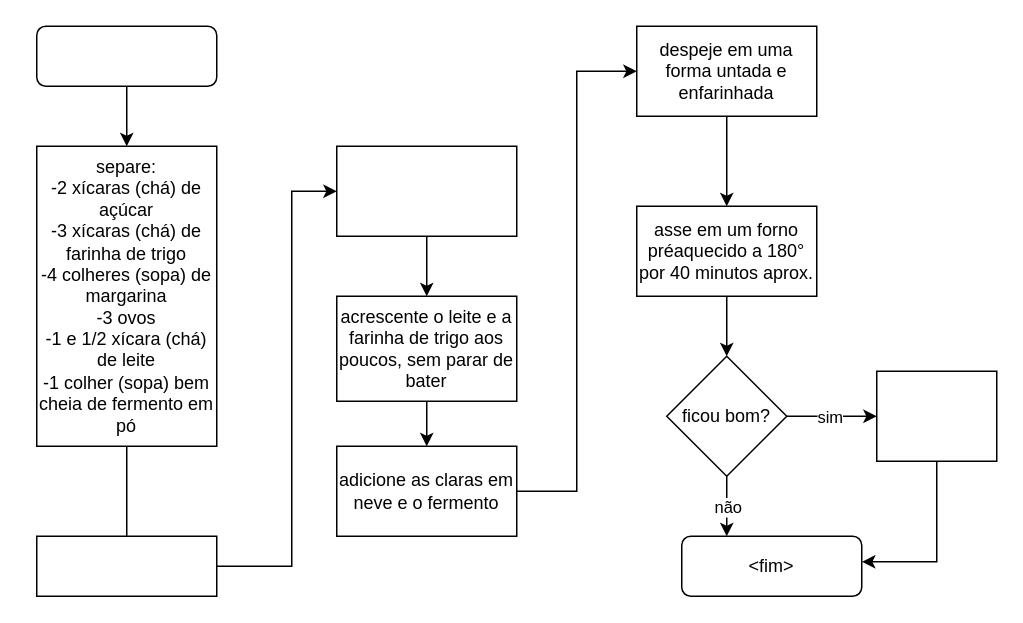
Image size: 1023x623. Some labels were removed from this diagram. The centre of each missing label's shape, as x and y in pixels:
<início>: pixel 126 55
bata as claras em neve e reserve: pixel 126 565
misture as gemas, a margarina e o açúcar até ficar homogêneo: pixel 426 190
se inscreva no canal: pixel 936 415
